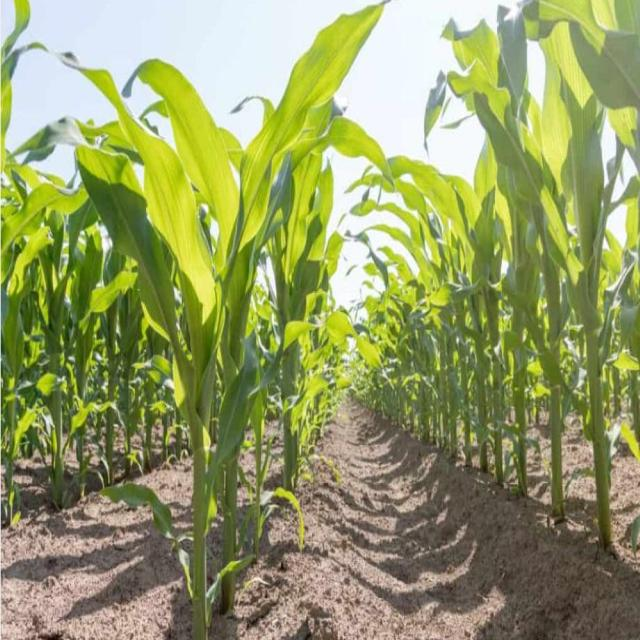row: (213, 397, 640, 639), (0, 410, 307, 640)
